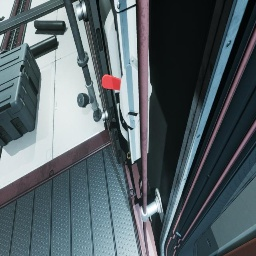SafetySwitchPanel ,: (99, 0, 152, 164)
